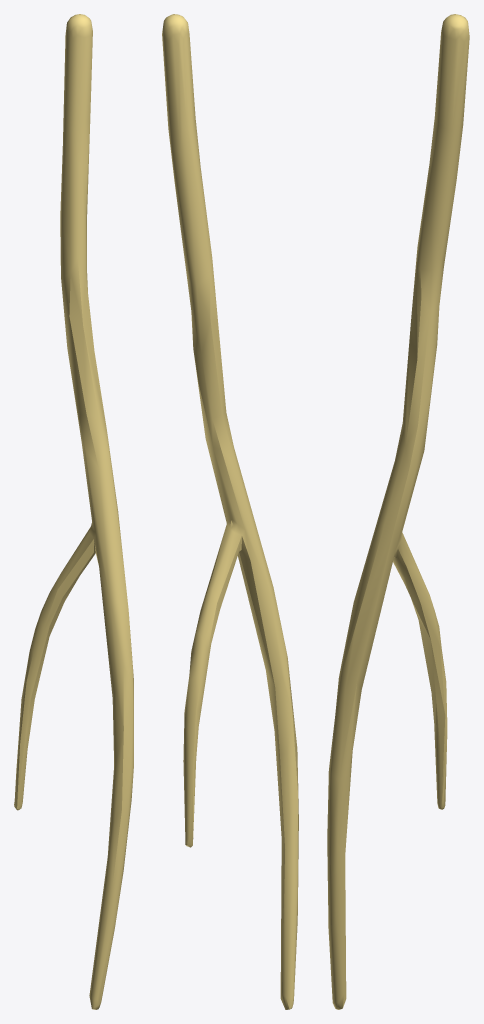
File: fma52593_fj3917.glb
3 renders of one model, left to right at view 1: azimuth 90°, elevation 25°; view 2: azimuth 150°, elevation 25°; view 3: azimuth 330°, elevation 25°, orthographic. The views are drawn at different scales.
Visible parts, largest first — view 1: FMA52593_FJ3917; view 2: FMA52593_FJ3917; view 3: FMA52593_FJ3917.
Part boxes in pixels (left/top/right/bottom): FMA52593_FJ3917: left=14, top=14, right=133, bottom=1009; FMA52593_FJ3917: left=162, top=14, right=298, bottom=1009; FMA52593_FJ3917: left=327, top=14, right=469, bottom=1009.
Size of the model in its own units: 0.00293 by 0.0224 by 0.00257.
